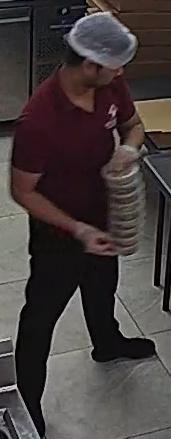no_apron: (11, 64, 131, 227)
